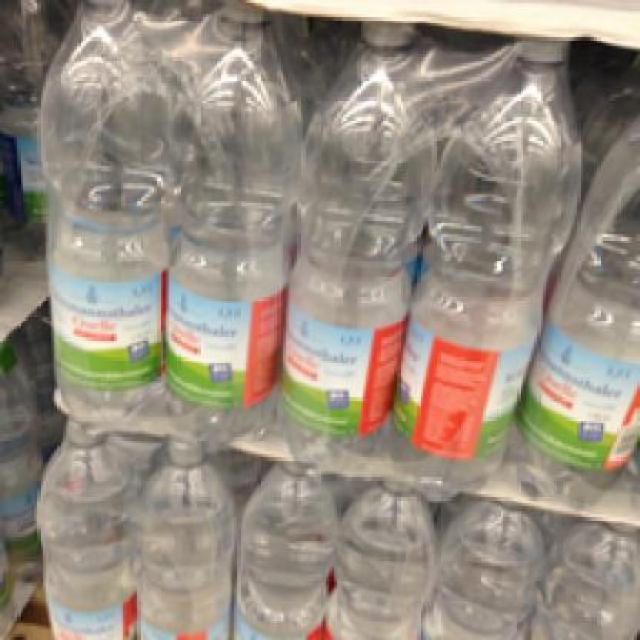Water: (397, 37, 574, 490), (280, 19, 429, 474), (166, 2, 294, 452), (36, 0, 170, 417), (123, 425, 235, 638), (29, 425, 138, 638), (231, 445, 340, 638), (422, 488, 552, 638), (326, 472, 434, 638)
